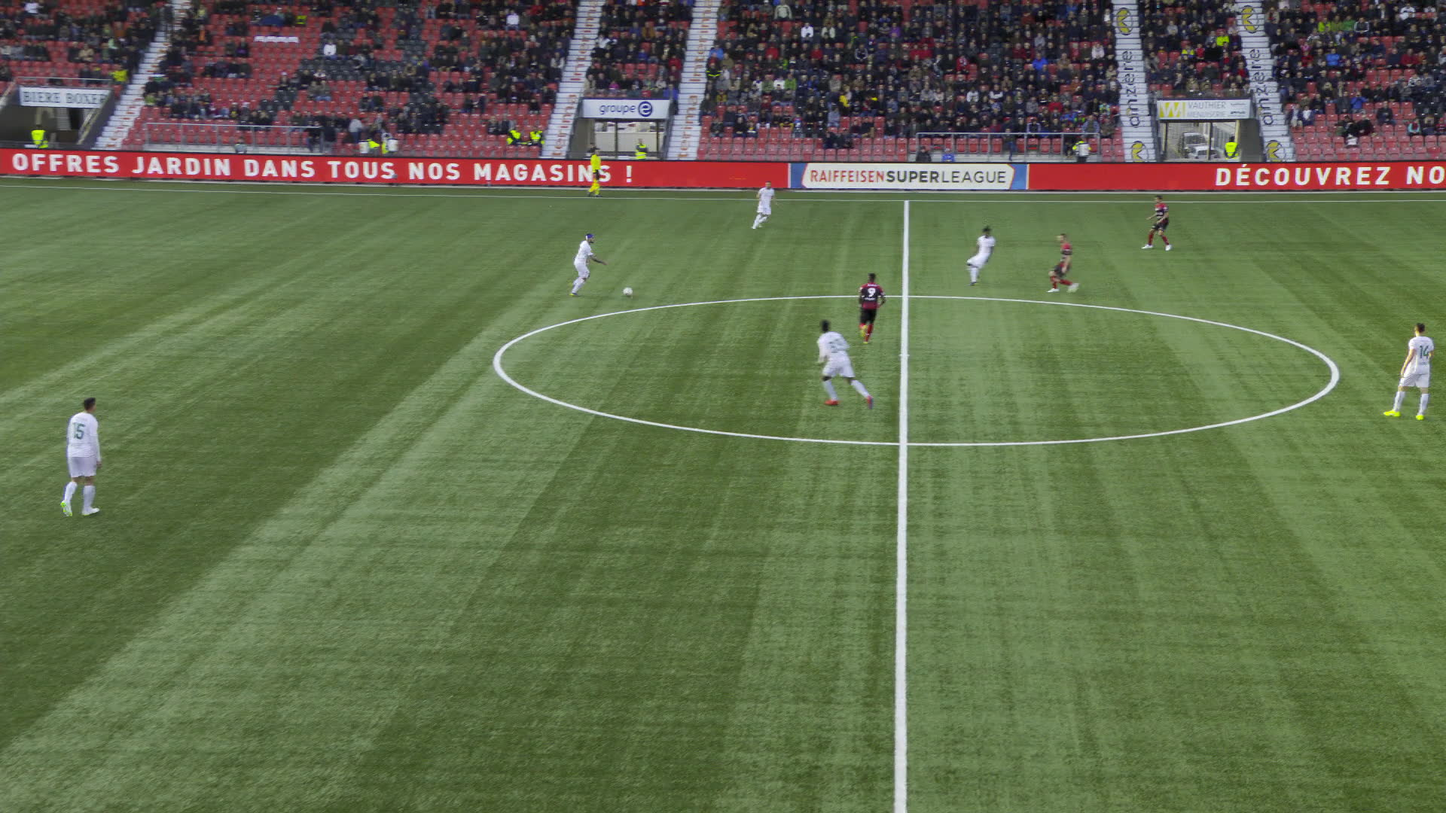ball: (623, 286, 631, 295)
player: (62, 398, 111, 519), (818, 318, 873, 411), (1386, 321, 1433, 419), (563, 233, 603, 296), (1042, 233, 1085, 291), (966, 224, 997, 286), (859, 272, 886, 342), (1141, 195, 1172, 250), (751, 181, 775, 228)
referee: (587, 148, 603, 196)
